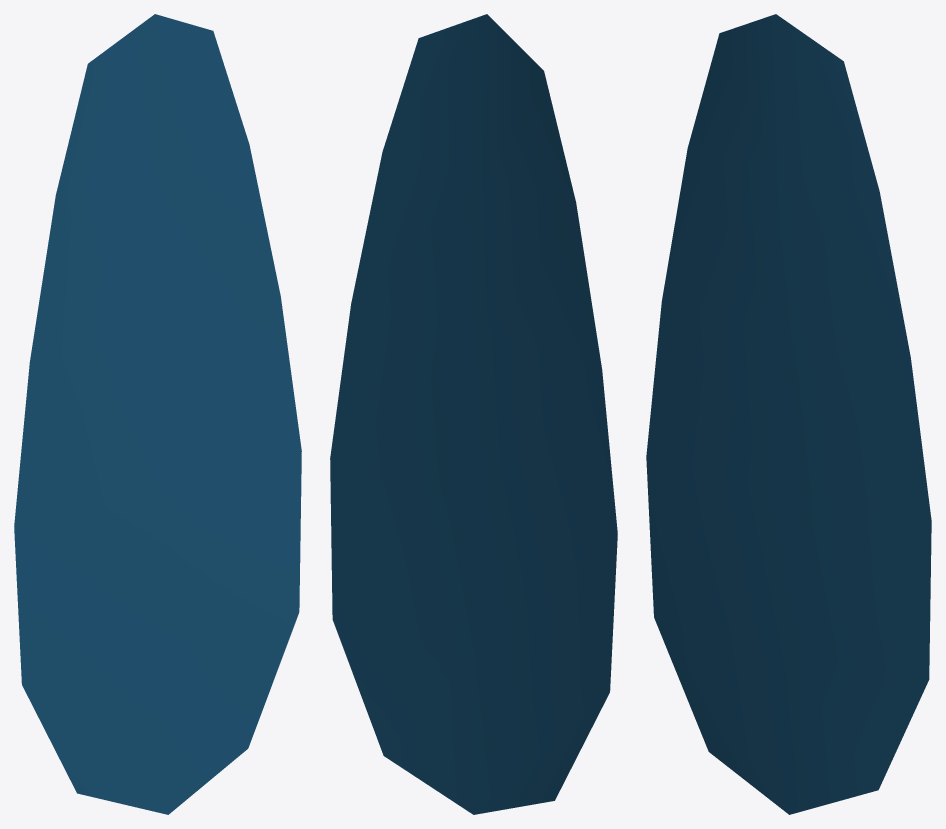
File: budgie_feather_flight_secondary_004.obj
3 views of the same model, side by side, from view 1: azimuth 30°, elevation 25°; view 2: azimuth 150°, elevation 25°; view 3: azimuth 330°, elevation 25° (orthographic).
Visible parts, largest first — view 1: feather_flight_secondary_004; view 2: feather_flight_secondary_004; view 3: feather_flight_secondary_004.
Part boxes in pixels (x1=…): feather_flight_secondary_004: x1=14, y1=14, x2=301, y2=814; feather_flight_secondary_004: x1=330, y1=14, x2=617, y2=814; feather_flight_secondary_004: x1=646, y1=14, x2=931, y2=814.
Bounding box in the file's own units: 0.0106 × 0.0283 × 0.000321.
